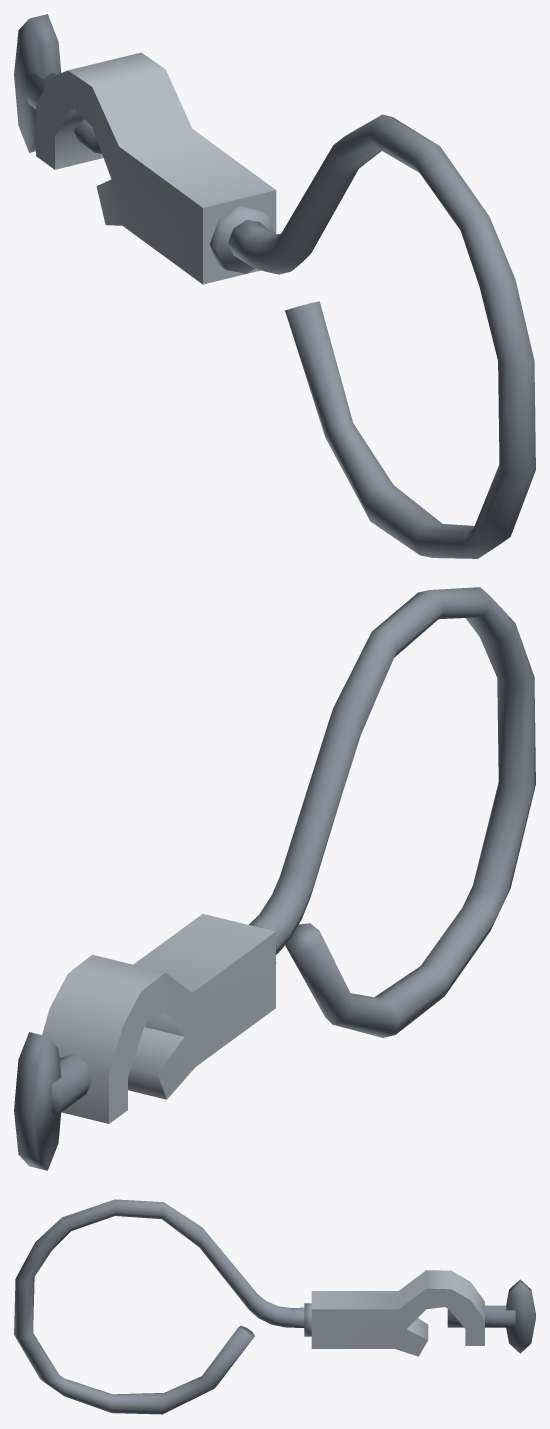
Rendered from clamp_ring_clamp.glb.
3 views of the same model, one above another, from view 1: azimuth 30°, elevation 25°; view 2: azimuth 150°, elevation 25°; view 3: azimuth 270°, elevation 25° (orthographic). The views are drawn at different scales.
Visible parts, largest first — view 1: clamp_ring_clamp, clamp_ring_clamp_screw; view 2: clamp_ring_clamp, clamp_ring_clamp_screw; view 3: clamp_ring_clamp, clamp_ring_clamp_screw.
Boxes of the visible parts, x1,y1,x2,y2 form: clamp_ring_clamp: (36, 52, 535, 558); clamp_ring_clamp_screw: (14, 14, 101, 153); clamp_ring_clamp: (42, 587, 535, 1123); clamp_ring_clamp_screw: (14, 1032, 91, 1170); clamp_ring_clamp: (14, 1199, 484, 1414); clamp_ring_clamp_screw: (447, 1279, 535, 1353).
Size of the model in its own units: 2.33 by 12.58 by 27.7.
Materials: 1 (1 with a texture image).
